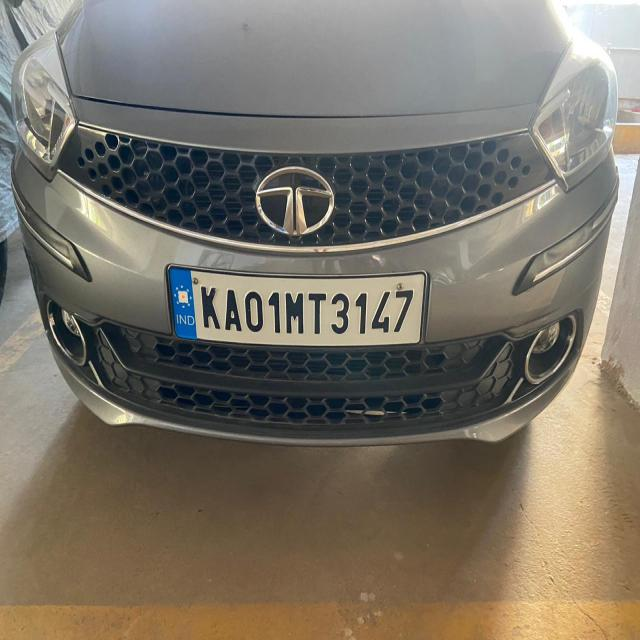0: (242, 279, 265, 337)
1: (353, 286, 370, 342), (267, 284, 282, 335)
3: (328, 288, 351, 342)
4: (371, 290, 396, 338)
7: (390, 282, 414, 337)
A: (223, 279, 243, 337)
K: (194, 276, 222, 333)
M: (284, 284, 308, 340)
T: (308, 287, 327, 339)
